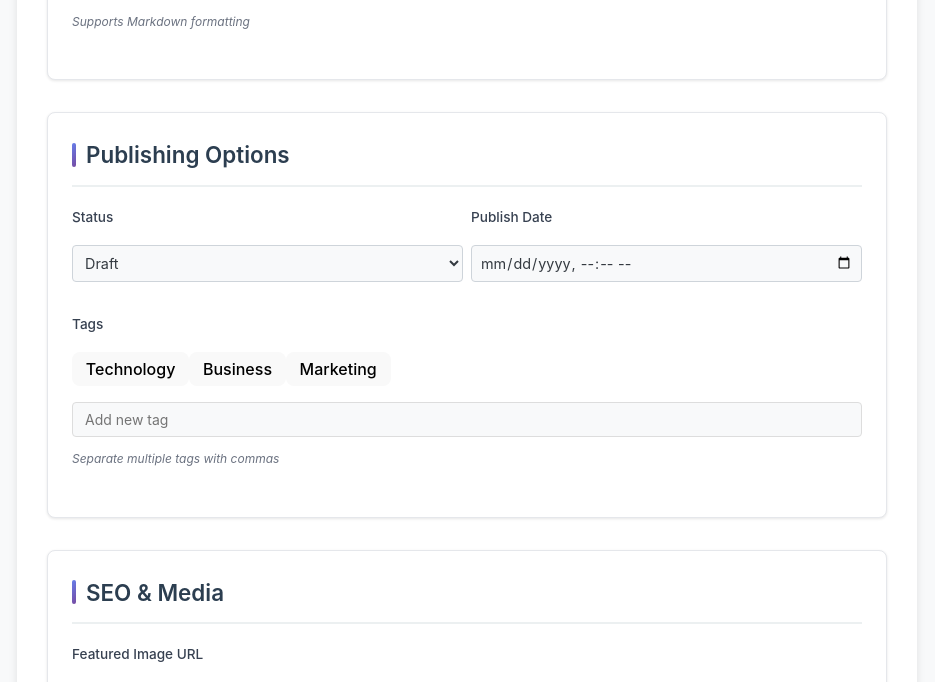
BlogPostForm Component › Tag Management › should add tag to blog post
The image size is (935, 682).
(page scrolled)
Click the button "Technology" at (131, 369), box [72,352,189,386]
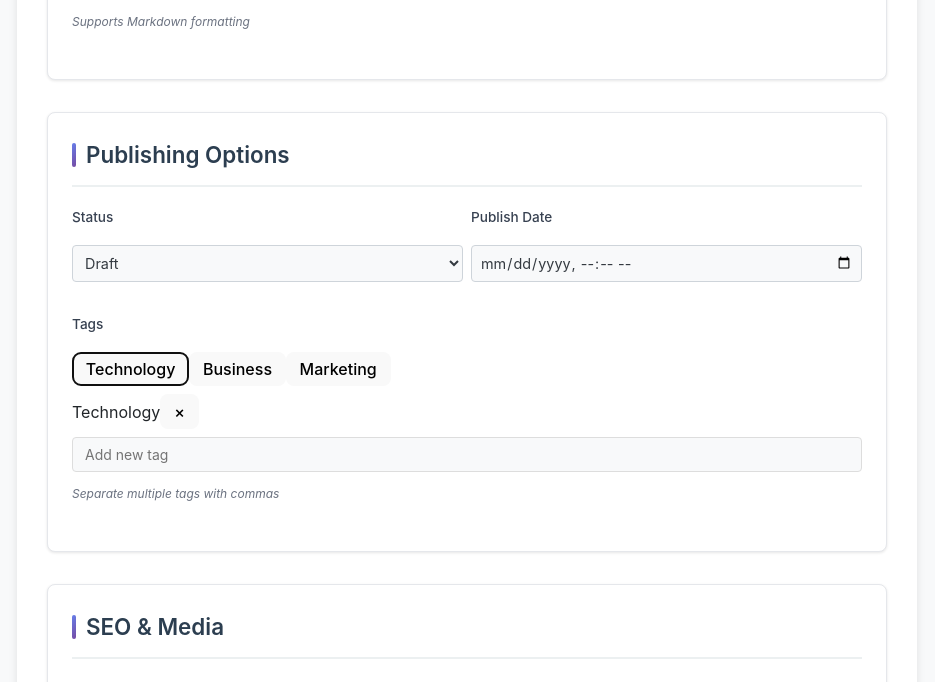
Now the element with test id "selected-tag-Technology" is shown, box [72,402,199,422]
